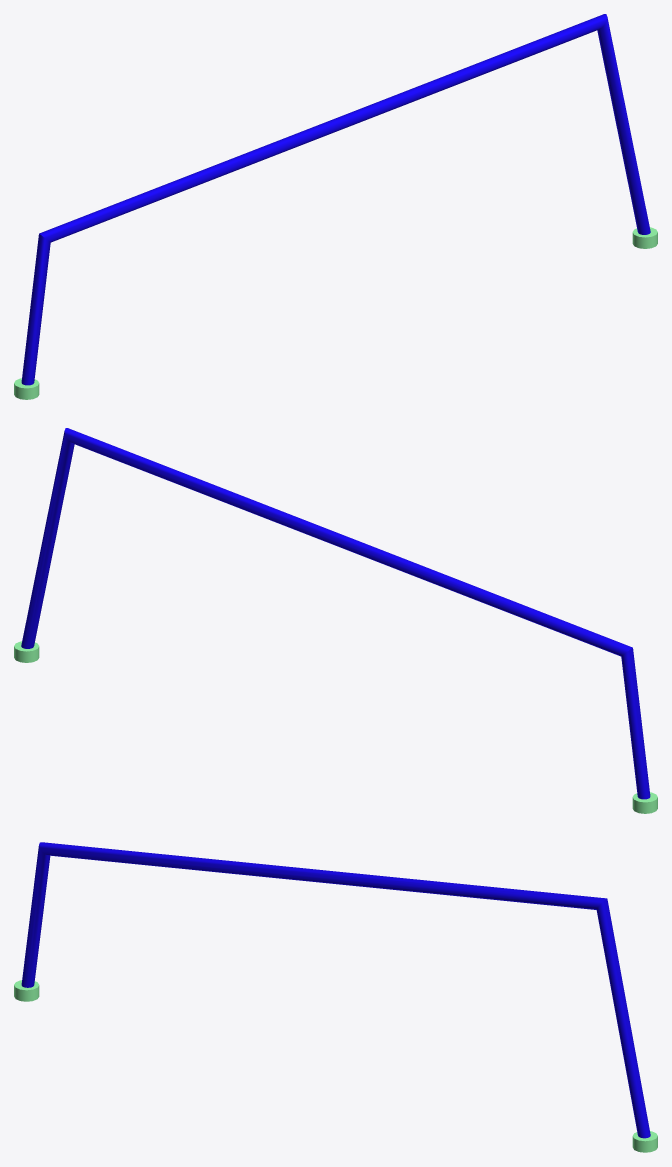
3 views of the same model, one above another, from view 1: azimuth 30°, elevation 25°; view 2: azimuth 150°, elevation 25°; view 3: azimuth 330°, elevation 25° (orthographic).
Visible parts, largest first — view 1: Line009; view 2: Line009; view 3: Line009.
Boxes of the visible parts, bbox=[...] form: Line009: bbox=[14, 14, 657, 399]; Line009: bbox=[14, 428, 657, 813]; Line009: bbox=[14, 842, 657, 1152].
Bounding box in the file's own units: 291 × 104 × 10.
